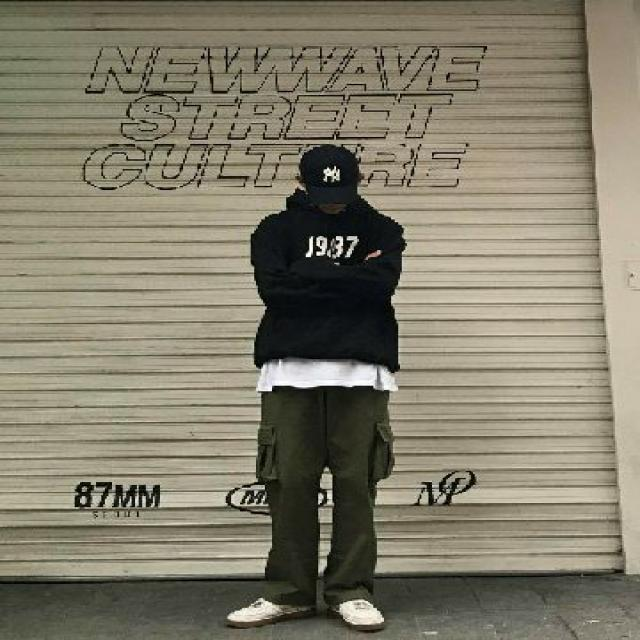cottonpants: (253, 380, 391, 602)
hoodies: (246, 202, 404, 370)
